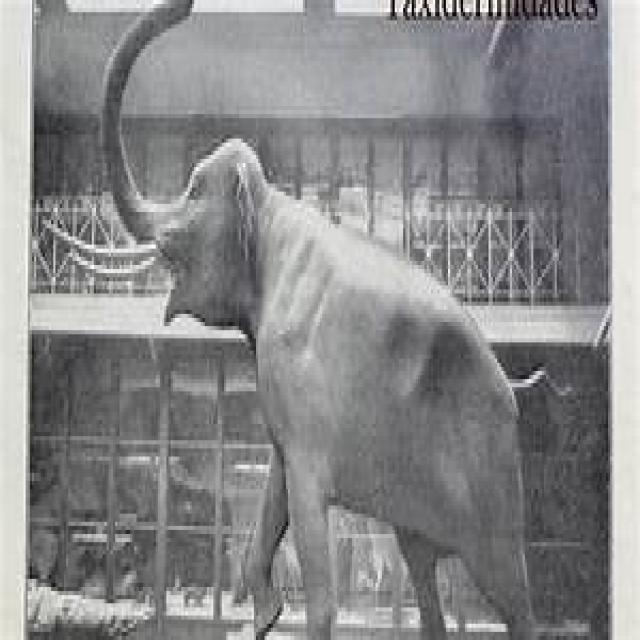elephant: (100, 0, 542, 640)
